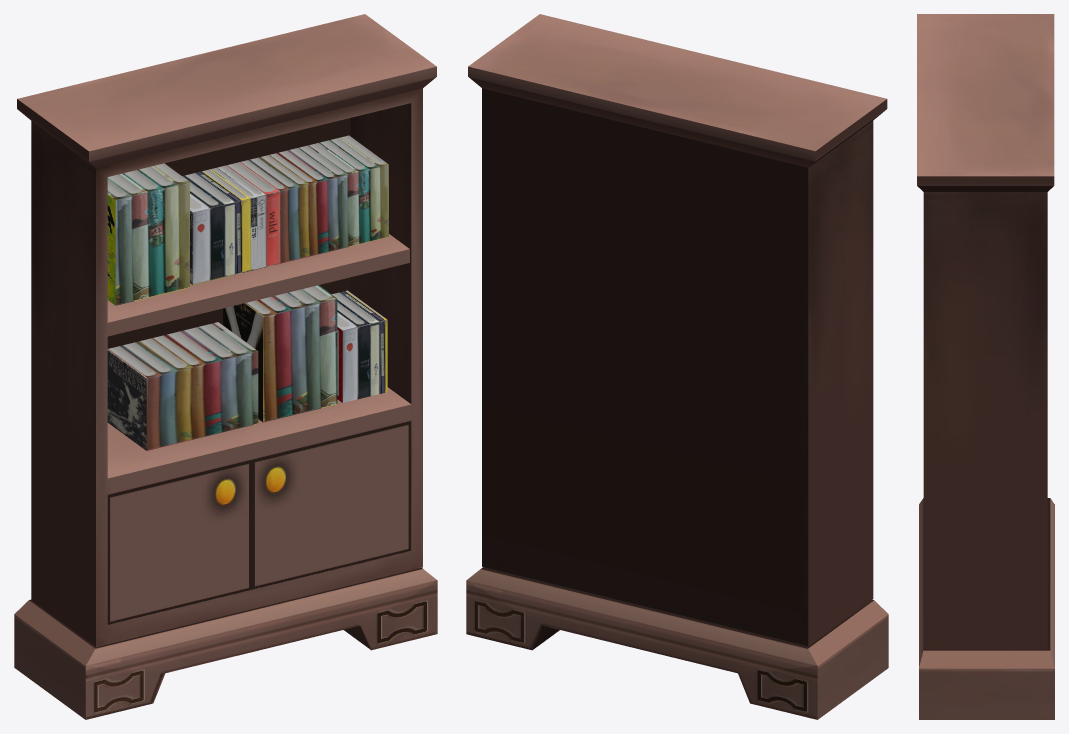
File: bookShelf4.fbx
The picture shows the model from 3 angles, left to right: view 1: azimuth 30°, elevation 25°; view 2: azimuth 150°, elevation 25°; view 3: azimuth 270°, elevation 25°; orthographic projection. The views are drawn at different scales.
Parts seen in each view (by area): view 1: bookShelf4; view 2: bookShelf4; view 3: bookShelf4.
Boxes of the visible parts, bbox=[...] form: bookShelf4: bbox=[14, 14, 437, 719]; bookShelf4: bbox=[466, 14, 888, 719]; bookShelf4: bbox=[917, 14, 1054, 719].
Bounding box in the file's own units: 12.95 × 19.99 × 4.6.
